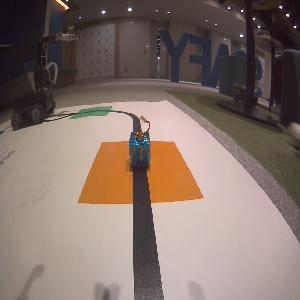box: (130, 133, 153, 171)
